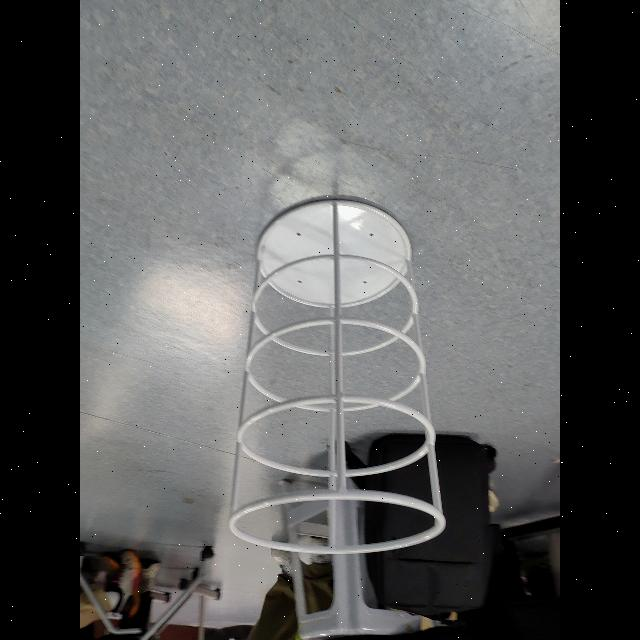S: (226, 196, 450, 556)
